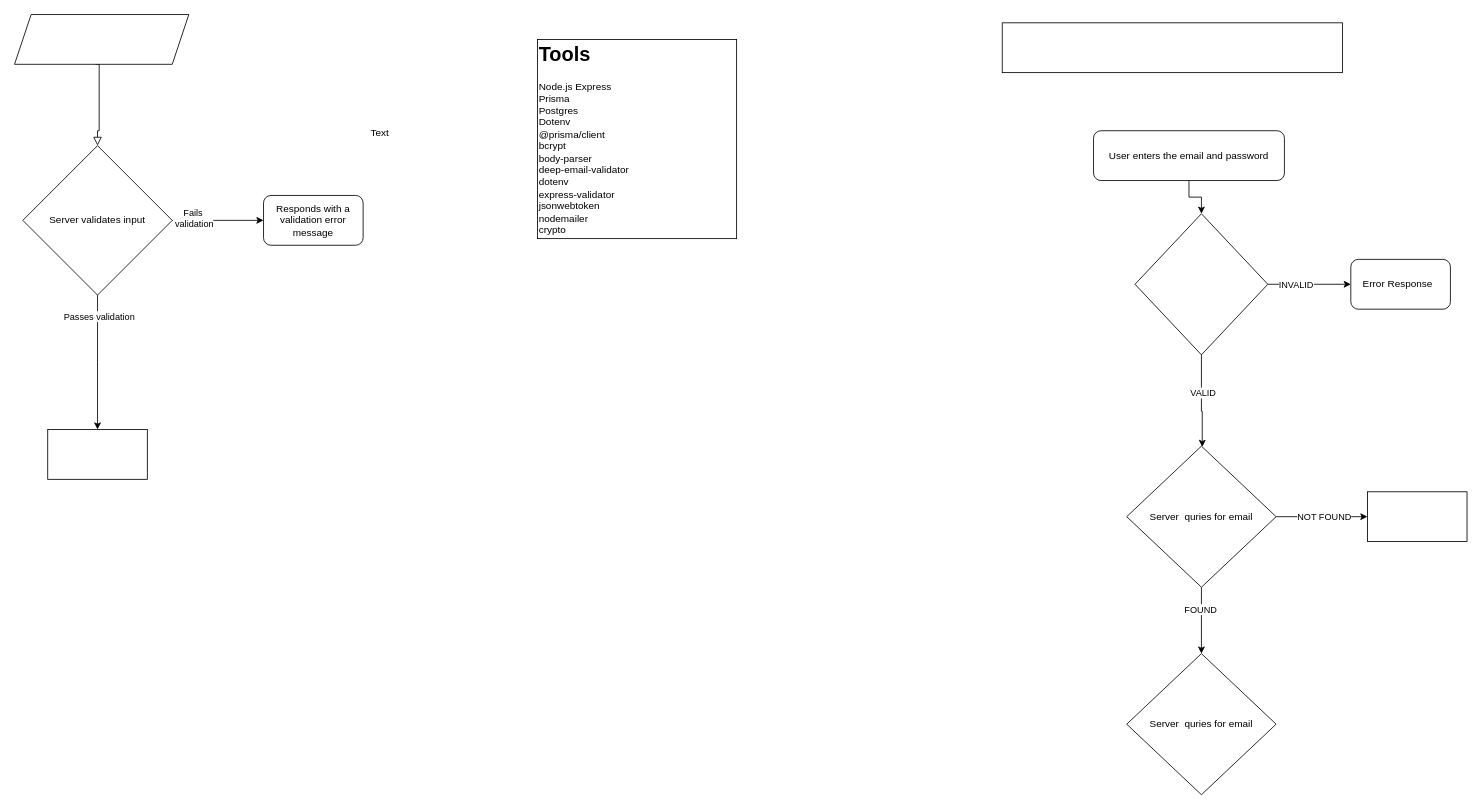
This 1482x809 diagram has some shape labels left out. The shapes that lost their labels are listed below. From the top down, each one's centre as x and y in pixels, then its label:
the point at 101,39: User enters email ,full name and password
the point at 1172,47: USER LOGIN
the point at 1201,284: system validates email and password
the point at 97,454: Server saves password securely
